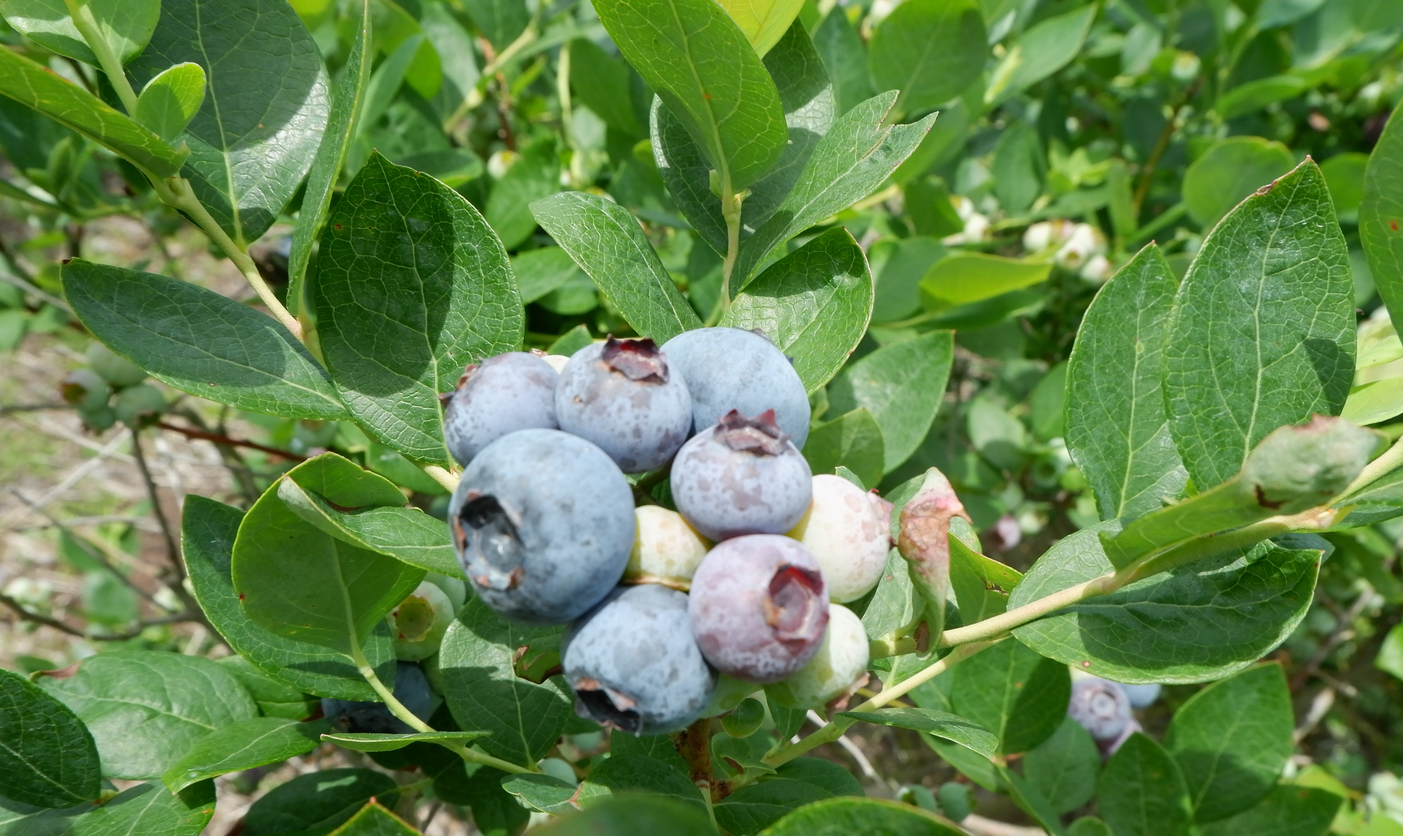Immature: (691, 538, 827, 680), (787, 475, 891, 600), (774, 605, 867, 705), (626, 508, 710, 589)
Mature: (454, 431, 633, 622), (564, 587, 712, 734), (669, 407, 812, 538), (556, 341, 688, 472), (667, 331, 810, 448), (443, 353, 556, 468)
